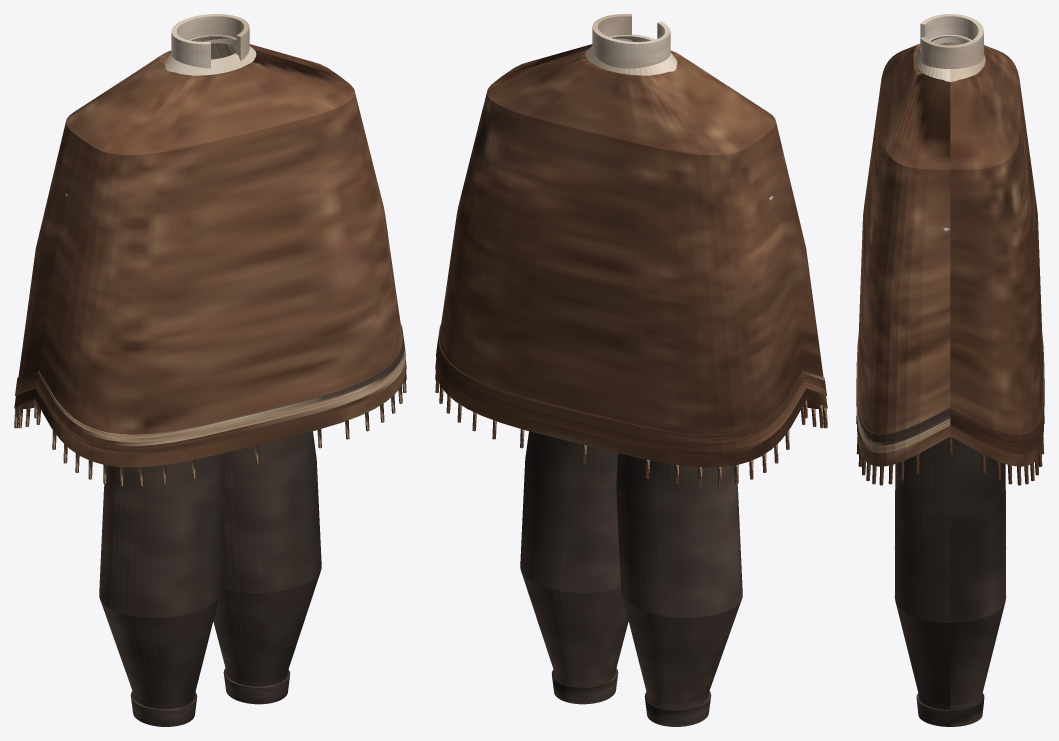
3 views of the same model, side by side, from view 1: azimuth 30°, elevation 25°; view 2: azimuth 150°, elevation 25°; view 3: azimuth 270°, elevation 25° (orthographic).
Parts seen in each view (by area): view 1: poncho, left_trouser_leg, right_trouser_leg, poncho_woven_band, shirt_collar, shirt_body, right_trouser_cuff, left_trouser_cuff; view 2: poncho, left_trouser_leg, right_trouser_leg, poncho_woven_band, shirt_collar, right_trouser_cuff, left_trouser_cuff, shirt_body; view 3: poncho, right_trouser_leg, poncho_woven_band, shirt_collar, right_trouser_cuff, shirt_body.
Boxes of the visible parts, bbox=[...] form: poncho: bbox=[14, 44, 406, 467]; left_trouser_leg: bbox=[99, 453, 225, 709]; right_trouser_leg: bbox=[213, 431, 321, 686]; poncho_woven_band: bbox=[15, 324, 405, 454]; shirt_collar: bbox=[171, 14, 249, 68]; shirt_body: bbox=[164, 35, 256, 75]; right_trouser_cuff: bbox=[223, 668, 290, 704]; left_trouser_cuff: bbox=[130, 691, 197, 726]; poncho: bbox=[435, 44, 827, 467]; left_trouser_leg: bbox=[616, 453, 742, 709]; right_trouser_leg: bbox=[520, 431, 628, 686]; poncho_woven_band: bbox=[436, 324, 826, 454]; shirt_collar: bbox=[592, 14, 670, 68]; right_trouser_cuff: bbox=[551, 668, 618, 704]; left_trouser_cuff: bbox=[644, 691, 711, 726]; shirt_body: bbox=[585, 34, 677, 75]; poncho: bbox=[857, 42, 1043, 466]; right_trouser_leg: bbox=[894, 437, 1006, 709]; poncho_woven_band: bbox=[856, 335, 1044, 454]; shirt_collar: bbox=[920, 14, 983, 68]; right_trouser_cuff: bbox=[916, 693, 984, 726]; shirt_body: bbox=[915, 34, 985, 81].
Size of the model in its own units: 59.16 by 108 by 27.93.
Materials: 6 (6 with a texture image).
